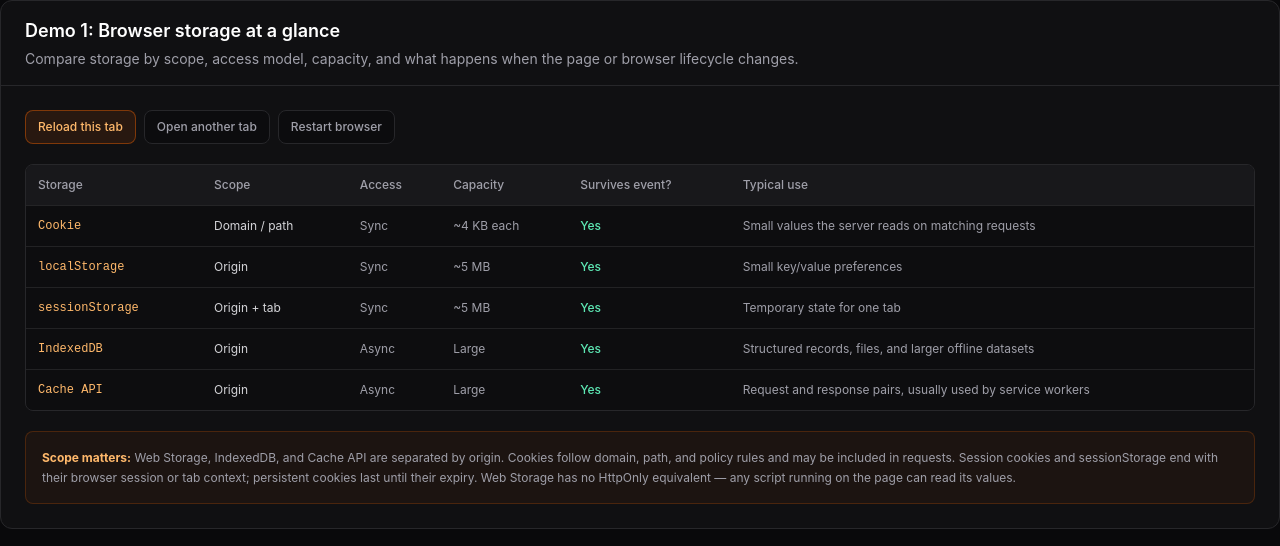
Test: BrowserStorageDemo › marks sessionStorage as not surviving a new tab
The width and height of the screenshot is (1280, 546).
Click the button "Open another tab".
click(207, 127)  # box x1=144 y1=110 x2=270 y2=144
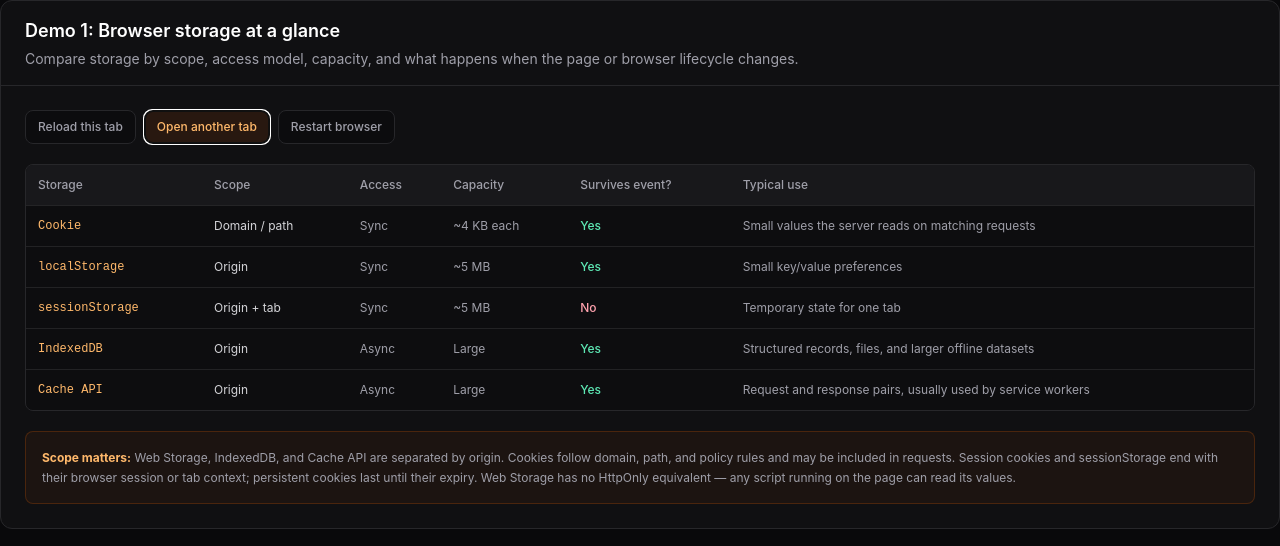
expect the row that starts with "sessionStorage" shows "No": met, box x1=580 y1=300 x2=596 y2=315
